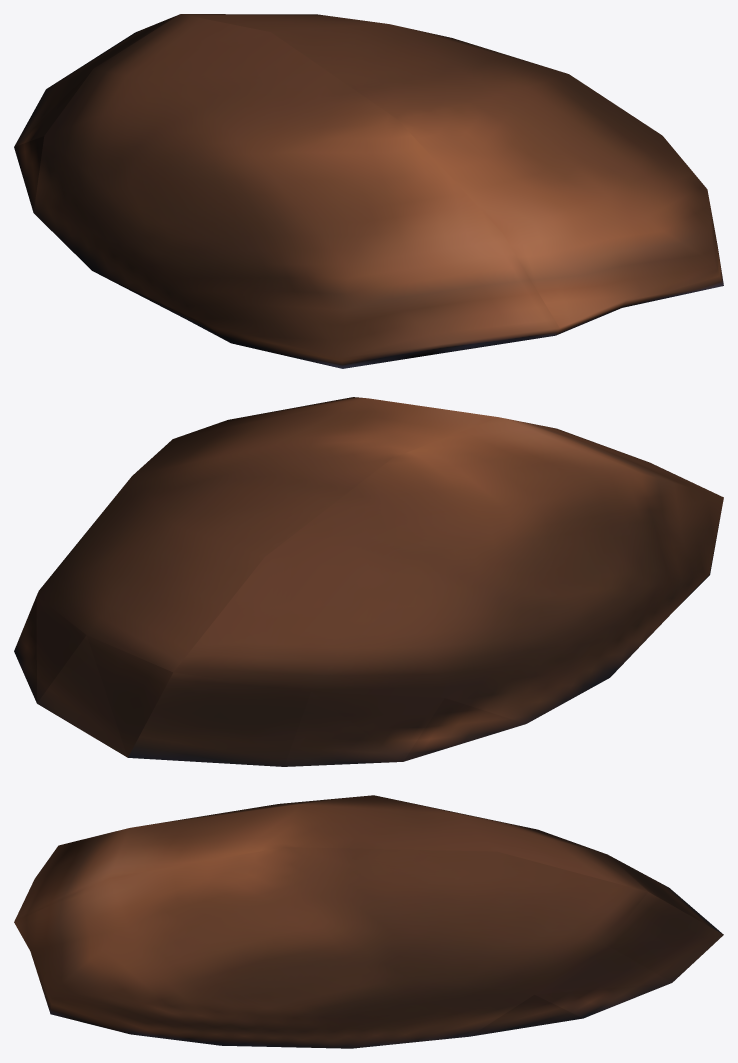
Rendered from leather_helm_drop.fbx.
The picture shows the model from 3 angles, top to bottom: view 1: azimuth 30°, elevation 25°; view 2: azimuth 150°, elevation 25°; view 3: azimuth 270°, elevation 25°; orthographic projection. The views are drawn at different scales.
Parts seen in each view (by area): view 1: lthset/helmet; view 2: lthset/helmet; view 3: lthset/helmet.
Boxes of the visible parts, box(x1,y1,x2,y2) form: lthset/helmet: box(14, 14, 723, 368); lthset/helmet: box(14, 397, 723, 766); lthset/helmet: box(14, 795, 723, 1048).
Size of the model in its own units: 0.2482 by 0.0553 by 0.3516.
